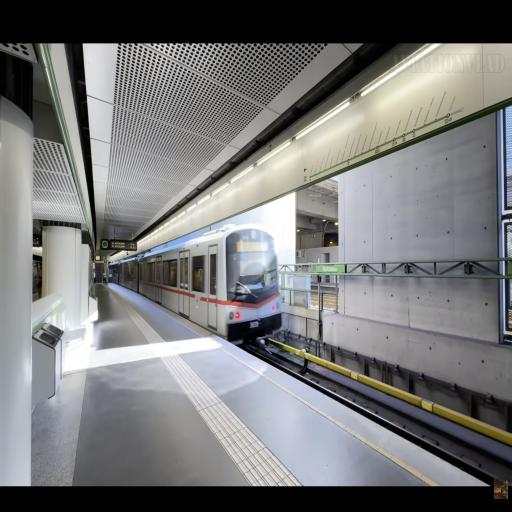V-Wagen: (110, 223, 285, 336)
